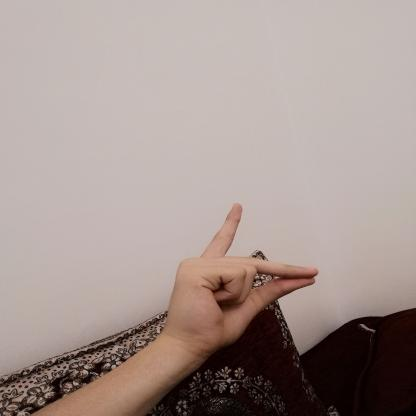TAA: (154, 196, 325, 358)
